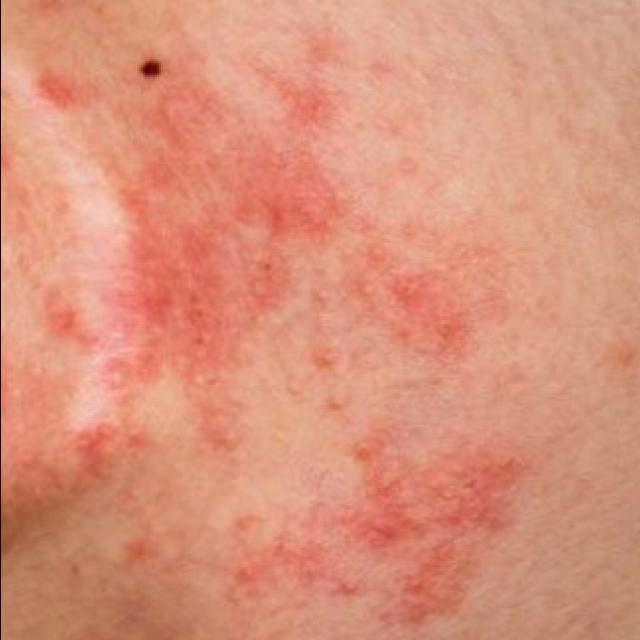AtopicDermatitis: (1, 0, 584, 640)
